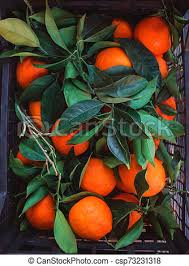orange: (119, 150, 168, 197), (69, 150, 117, 195), (67, 197, 116, 241), (21, 186, 61, 227), (49, 118, 90, 154), (133, 17, 173, 53), (93, 44, 132, 77), (15, 53, 49, 90)
